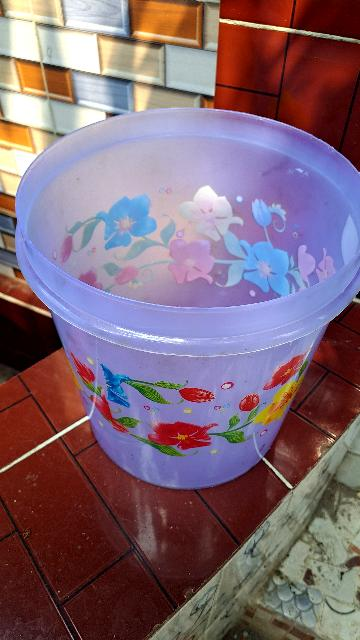hardplastic: (3, 182, 360, 471)
